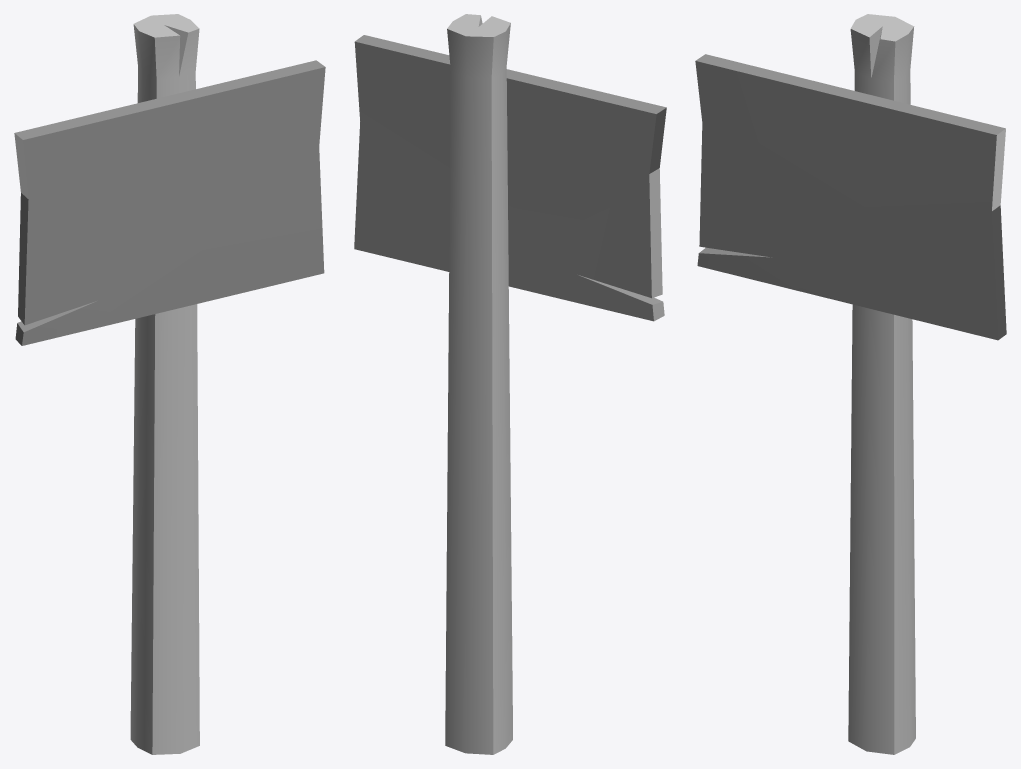
Rendered from PT_Wooden_Directions_Sign_02.fbx.
3 views of the same model, side by side, from view 1: azimuth 30°, elevation 25°; view 2: azimuth 150°, elevation 25°; view 3: azimuth 330°, elevation 25° (orthographic).
Visible parts, largest first — view 1: PT_Wooden_Directions_Sign_02_sign, PT_Wooden_Directions_Sign_02_pole; view 2: PT_Wooden_Directions_Sign_02_sign, PT_Wooden_Directions_Sign_02_pole; view 3: PT_Wooden_Directions_Sign_02_sign, PT_Wooden_Directions_Sign_02_pole.
Part boxes in pixels (left/top/right/bottom): PT_Wooden_Directions_Sign_02_sign: left=14, top=60, right=325, bottom=345; PT_Wooden_Directions_Sign_02_pole: left=130, top=14, right=199, bottom=754; PT_Wooden_Directions_Sign_02_sign: left=354, top=35, right=666, bottom=321; PT_Wooden_Directions_Sign_02_pole: left=445, top=14, right=512, bottom=754; PT_Wooden_Directions_Sign_02_sign: left=695, top=54, right=1006, bottom=340; PT_Wooden_Directions_Sign_02_pole: left=848, top=14, right=915, bottom=754.
Bounding box in the file's own units: 137 × 311 × 29.42.
Materials: 1 (1 with a texture image).
